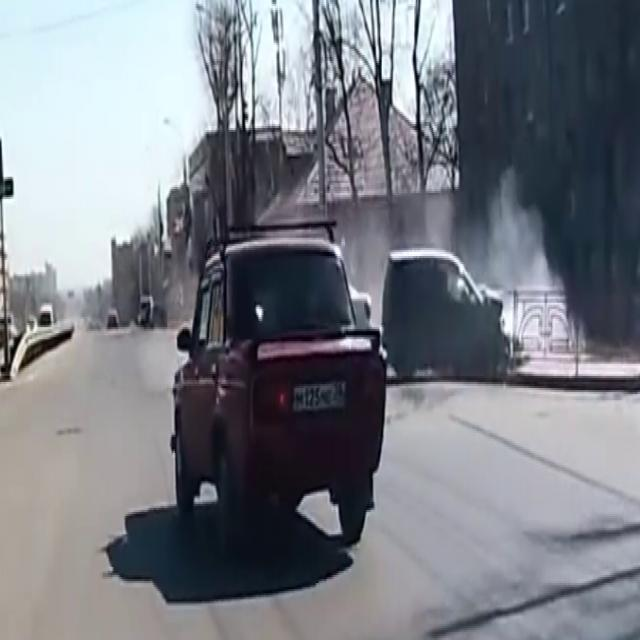accident: (389, 242, 520, 391)
